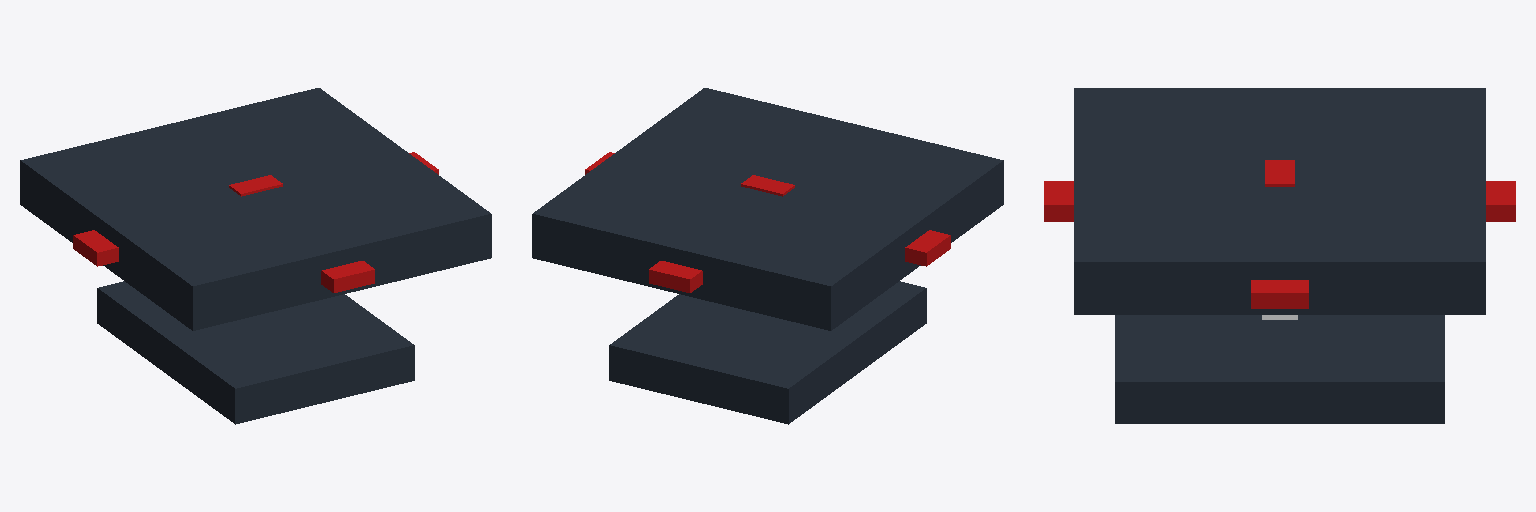
--- Facts derived from the render (not from the file) ---
Views: 3 orthographic renders of the robot side by side, from view 1: azimuth 30°, elevation 25°; view 2: azimuth 150°, elevation 25°; view 3: azimuth 270°, elevation 25°.
Model crazyflie with 15 links and 14 joints (4 revolute, 10 fixed), rooted at crazyflie_main_body, posed every joint at zero.
Visible links, largest first — view 1: mrdk_base_link, fldk_base_link, right_sensor, back_sensor, top_sensor; view 2: mrdk_base_link, fldk_base_link, left_sensor, back_sensor, top_sensor; view 3: mrdk_base_link, fldk_base_link, front_sensor, left_sensor, right_sensor, top_sensor.
Boxes of the visible links, left/top/right/bottom form: mrdk_base_link: left=20, top=88, right=491, bottom=330; fldk_base_link: left=97, top=281, right=414, bottom=424; right_sensor: left=321, top=261, right=374, bottom=292; back_sensor: left=73, top=230, right=118, bottom=266; top_sensor: left=229, top=175, right=282, bottom=196; mrdk_base_link: left=532, top=88, right=1003, bottom=330; fldk_base_link: left=609, top=281, right=926, bottom=424; left_sensor: left=649, top=261, right=702, bottom=292; back_sensor: left=905, top=230, right=950, bottom=266; top_sensor: left=741, top=175, right=794, bottom=196; mrdk_base_link: left=1074, top=88, right=1485, bottom=314; fldk_base_link: left=1115, top=315, right=1444, bottom=423; front_sensor: left=1251, top=280, right=1308, bottom=308; left_sensor: left=1486, top=181, right=1515, bottom=221; right_sensor: left=1044, top=181, right=1073, bottom=221; top_sensor: left=1265, top=160, right=1294, bottom=186.
Bounding box of the posed robot: 0.04 × 0.04 × 0.0218 m (x, y, z).
Geometry: only primitive shapes (box / cylinder / sphere) drawn; not drawn: 5 mesh visuals (reference in a form the renderer does not follow).

robot.urdf — crazyflie:
<?xml version="1.0"?>
<robot name="crazyflie" xmlns:xacro="http://www.ros.org/wiki/xacro">

  <!-- Material color used in Rviz -->
  <material name="black">
    <color rgba="0.0 0.0 0.0 1.0"/>
  </material>
  <material name="blue">
    <color rgba="0.203125 0.23828125 0.28515625 1.0"/>
  </material>
  <material name="green">
    <color rgba="0.0 0.8 0.0 1.0"/>
  </material>
  <material name="grey">
    <color rgba="0.2 0.2 0.2 1.0"/>
  </material>
  <material name="orange">
    <color rgba="1.0 0.423529411765 0.0392156862745 1.0"/>
  </material>
  <material name="brown">
    <color rgba="0.870588235294 0.811764705882 0.764705882353 1.0"/>
  </material>
  <material name="red">
    <color rgba="0.80078125 0.12890625 0.1328125 1.0"/>
  </material>
  <material name="white">
    <color rgba="1.0 1.0 1.0 1.0"/>
  </material>

  <!-- Material used by Gazebo -->
  <gazebo reference="imu_link">
    <material>Gazebo/White</material>
  </gazebo>

  <gazebo reference="fldk_base_link">
    <material>Gazebo/Blue</material>
  </gazebo>

  <gazebo reference="fldk_sensor_laser">
    <material>Gazebo/Red</material>
  </gazebo>

  <gazebo reference="fldk_sensor_camera">
    <material>Gazebo/Orange</material>
  </gazebo>

  <gazebo reference="mrdk_base_link">
    <material>Gazebo/Blue</material>
  </gazebo>

  <gazebo reference="top_sensor">
   <material>Gazebo/Red</material>
  </gazebo> 

  <gazebo reference="front_sensor">
   <material>Gazebo/Red</material>
  </gazebo>

  <gazebo reference="back_sensor">
   <material>Gazebo/Red</material>
  </gazebo> 

  <gazebo reference="left_sensor">
   <material>Gazebo/Red</material>
  </gazebo> 

  <gazebo reference="right_sensor">
   <material>Gazebo/Red</material>
  </gazebo> 

    <!--
    =========================================================================
                                  L I N K S
    =========================================================================
    -->

    <!--
    +++++++++++++++++++++++++++++++++++++++++++++++++++++++++++++++++++++++++
                        C R A Z Y F L I E  B O D Y
    +++++++++++++++++++++++++++++++++++++++++++++++++++++++++++++++++++++++++
    -->
    <link name="crazyflie_main_body">
      <origin xyz="0 0 0"/>
      <inertial>
        <mass value="0.027"/>
        <origin xyz="0 0 0.01745" rpy="0 0 0"/>
        <!--<inertia ixx="1.65717e-05" ixy="0" ixz="0" iyy="1.65717e-05" iyz="0" izz="2.92617e-05"/>-->
        <inertia ixx="16.823890e-06" ixy="0" ixz="0" iyy="16.655602e-06" iyz="0" izz="29.261652e-06"/>
      </inertial>

      <visual>
        <origin xyz="0 0 0" rpy="0 0 0"/>
        <geometry>
          <mesh filename="file://PATH_BASE"/>
        </geometry>
      </visual>
      <collision>
        <geometry>
          <box size="0.045 0.045 0.03"/>  <!-- "0.045 0.045 0.03" -->
        </geometry>
      </collision>
    </link>

    <!--
    +++++++++++++++++++++++++++++++++++++++++++++++++++++++++++++++++++++++++
                        I M U  S E N S O R  L I N K
    +++++++++++++++++++++++++++++++++++++++++++++++++++++++++++++++++++++++++
    -->

    <link name="imu_link">
        <origin xyz="0 0 0"/>
        <inertial>
            <origin xyz="0 0 0" rpy="0 0 0"/>
            <mass value="0.00001"/>
            <inertia ixx='8.252083333333335e-12' ixy='0' ixz='0' 
                     iyy='1.7627083333333335e-11' iyz='0' izz='8.252083333333335e-12'/>
        </inertial>
        <visual>
            <origin xyz="0 0 0" rpy="0 0 0"/>
            <geometry>
                <box size="0.0045 0.003 0.00095"/>
            </geometry>
            <material name="white"/>
        </visual>
        <collision>
            <origin xyz="0 0 0" rpy="0 0 0"/>
            <geometry>
                <box size="0.0045 0.003 0.00095"/>
            </geometry>
        </collision>
    </link>

    <!--
    +++++++++++++++++++++++++++++++++++++++++++++++++++++++++++++++++++++++++
                        P R O P E L L E R  M O T O R  1
    +++++++++++++++++++++++++++++++++++++++++++++++++++++++++++++++++++++++++
    -->

    <link name="crazyflie_prop_M1">
      <origin xyz="0 0 0"/> <!-- 0.032527 -0.032527 0.024 -->
      <inertial>
        <mass value="0.0005"/>
        <inertia ixx="1.20833e-07" ixy="0" ixz="0" iyy="1.07344e-06" iyz="0" izz="1.15677e-06"/>
      </inertial>
      <visual>
        <origin xyz="0 0 0" rpy="0 0 0"/>
        <geometry>
          <mesh scale="0.0225 0.0225 0.0225" filename="file://PATH_PROP_1"/>
        </geometry>
      </visual>
      <collision>
        <geometry>
          <cylinder radius="0.0225" length="0.005"/>
        </geometry>
      </collision>
    </link>

    <!--
    +++++++++++++++++++++++++++++++++++++++++++++++++++++++++++++++++++++++++
                        P R O P E L L E R  M O T O R  2
    +++++++++++++++++++++++++++++++++++++++++++++++++++++++++++++++++++++++++
    -->

    <link name="crazyflie_prop_M2">
      <origin xyz="0 0 0"/>
      <inertial>
        <mass value="0.0005"/>
        <inertia ixx="1.20833e-07" ixy="0" ixz="0" iyy="1.07344e-06" iyz="0" izz="1.15677e-06"/>
      </inertial>
      <visual>
        <origin xyz="0 0 0" rpy="0 0 0"/>
        <geometry>
          <mesh scale="0.0225 0.0225 0.0225" filename="file://PATH_PROP_2"/>
        </geometry>
      </visual>
      <collision>
        <geometry>
          <cylinder radius="0.0225" length="0.005"/>
        </geometry>
      </collision>
    </link>

    <!--
    +++++++++++++++++++++++++++++++++++++++++++++++++++++++++++++++++++++++++
                        P R O P E L L E R  M O T O R  3
    +++++++++++++++++++++++++++++++++++++++++++++++++++++++++++++++++++++++++
    -->

    <link name="crazyflie_prop_M3">
      <origin xyz="0 0 0"/>
      <inertial>
        <mass value="0.0005"/>
        <inertia ixx="1.20833e-07" ixy="0" ixz="0" iyy="1.07344e-06" iyz="0" izz="1.15677e-06"/>
      </inertial>
      <visual>
        <origin xyz="0 0 0" rpy="0 0 0"/>
        <geometry>
          <mesh scale="0.0225 0.0225 0.0225" filename="file://PATH_PROP_3"/>
        </geometry>
      </visual>
      <collision>
        <geometry>
          <cylinder radius="0.0225" length="0.005"/>
        </geometry>
      </collision>
    </link>

    <!--
    +++++++++++++++++++++++++++++++++++++++++++++++++++++++++++++++++++++++++
                        P R O P E L L E R  M O T O R  4
    +++++++++++++++++++++++++++++++++++++++++++++++++++++++++++++++++++++++++
    -->

    <link name="crazyflie_prop_M4">
      <origin xyz="0 0 0"/>
      <inertial>
        <mass value="0.0005"/>
        <inertia ixx="1.20833e-07" ixy="0" ixz="0" iyy="1.07344e-06" iyz="0" izz="1.15677e-06"/>
      </inertial>
      <visual>
        <origin xyz="0 0 0" rpy="0 0 0"/>
        <geometry>
          <mesh scale="0.0225 0.0225 0.0225" filename="file://PATH_PROP_4"/>
        </geometry>
      </visual>
      <collision>
        <geometry>
          <cylinder radius="0.0225" length="0.005"/>
        </geometry>
      </collision>
    </link>

    <!--
    =========================================================================
                                  J O I N T S
    =========================================================================
    -->
    <!--
    +++++++++++++++++++++++++++++++++++++++++++++++++++++++++++++++++++++++++
                I M U  S E N S O R  F I X E D  J O I N T
    +++++++++++++++++++++++++++++++++++++++++++++++++++++++++++++++++++++++++
    -->

    <joint name="imu_sensor_joint" type="fixed">
        <parent link="crazyflie_main_body" />
        <child link="imu_link" />
        <origin xyz="0 0 0.01745" rpy="0 0 0" />
    </joint>

    <!--
    +++++++++++++++++++++++++++++++++++++++++++++++++++++++++++++++++++++++++
                    R E V O L U T E  J O I N T  M O T O R  1
    +++++++++++++++++++++++++++++++++++++++++++++++++++++++++++++++++++++++++
    -->

    <joint name="crazyflie_M1_joint" type="revolute">
      <parent link="crazyflie_main_body"/>
      <child link="crazyflie_prop_M1"/>
      <origin xyz="0.0326695 -0.0326695 0.024" rpy="0 0 0" />
      <axis xyz="0 0 1"/>
      <limit lower="-1e+16" upper="1e+16" effort="1000" velocity="100"/>
    </joint>

    <!--
    +++++++++++++++++++++++++++++++++++++++++++++++++++++++++++++++++++++++++
                    R E V O L U T E  J O I N T  M O T O R  2
    +++++++++++++++++++++++++++++++++++++++++++++++++++++++++++++++++++++++++
    -->

    <joint name="crazyflie_M2_joint" type="revolute">
      <parent link="crazyflie_main_body"/>
      <child link="crazyflie_prop_M2"/>
      <origin xyz="-0.0326695 -0.0326695 0.024" rpy="0 0 0" />
      <axis xyz="0 0 1"/>
      <limit lower="-1e+16" upper="1e+16" effort="1000" velocity="100"/>
    </joint>

    <!--
    +++++++++++++++++++++++++++++++++++++++++++++++++++++++++++++++++++++++++
                    R E V O L U T E  J O I N T  M O T O R  3
    +++++++++++++++++++++++++++++++++++++++++++++++++++++++++++++++++++++++++
    -->

    <joint name="crazyflie_M3_joint" type="revolute">
      <parent link="crazyflie_main_body"/>
      <child link="crazyflie_prop_M3"/>
      <origin xyz="-0.0326695 0.0326695 0.024" rpy="0 0 0" />
      <axis xyz="0 0 1"/>
      <limit lower="-1e+16" upper="1e+16" effort="1000" velocity="100"/>
    </joint>

    <!--
    +++++++++++++++++++++++++++++++++++++++++++++++++++++++++++++++++++++++++
                    R E V O L U T E  J O I N T  M O T O R  4
    +++++++++++++++++++++++++++++++++++++++++++++++++++++++++++++++++++++++++
    -->

    <joint name="crazyflie_M4_joint" type="revolute">
      <parent link="crazyflie_main_body"/>
      <child link="crazyflie_prop_M4"/>
      <origin xyz="0.0326695 0.0326695 0.024" rpy="0 0 0" />
      <axis xyz="0 0 1"/>
      <limit lower="-1e+16" upper="1e+16" effort="1000" velocity="100"/>
    </joint>

    <!--
    =========================================================================
                              P L U G I N S
    =========================================================================
    -->
    <!--
    +++++++++++++++++++++++++++++++++++++++++++++++++++++++++++++++++++++++++
                        G A Z E B O  R O S  C O N T R O L
    +++++++++++++++++++++++++++++++++++++++++++++++++++++++++++++++++++++++++
    -->
    <gazebo>
        <plugin name="gazebo_ros_control" filename="libgazebo_ros_control.so">
          <robotNamespace>ROBOT_NAMESPACE</robotNamespace>
          <!-- Topic to publish nav_msgs/Odometry messages, defaults to `odom` -->
          <!-- <odometryTopic>odom</odometryTopic> -->
          <!-- Odometry frame, defaults to `odom` -->
          <!-- <odometryFrame>odom</odometryFrame> -->
          <!-- Odometry source, 0 for ENCODER, 1 for WORLD, defaults to WORLD -->
          <!-- <odometrySource>1</odometrySource> -->
        </plugin>
    </gazebo>

    <!--
    +++++++++++++++++++++++++++++++++++++++++++++++++++++++++++++++++++++++++
                                O D O M E T R Y
    +++++++++++++++++++++++++++++++++++++++++++++++++++++++++++++++++++++++++
    -->
    <gazebo>
        <plugin name="p3d_base_controller" filename="libgazebo_ros_p3d.so">
            <alwaysOn>true</alwaysOn>
            <updateRate>500.0</updateRate>
            <bodyName>crazyflie_main_body</bodyName> <!--crazyflie_main_body-->
            <topicName>ODOMETRY_TOPIC</topicName>
            <gaussianNoise>0.0</gaussianNoise>
            <!-- new stuff -->
            <!-- <odometryTopic>odom</odometryTopic> -->
            <!-- <odometryFrame>odom</odometryFrame> -->
            <frameName>world</frameName> 
            <xyzOffsets>0 0 0</xyzOffsets>
            <rpyOffsets>0 0 0</rpyOffsets>
        </plugin>
    </gazebo>

    <gazebo>
        <plugin name="p3d_base_controller" filename="libgazebo_ros_p3d.so">
            <alwaysOn>true</alwaysOn>
            <updateRate>500.0</updateRate>
            <bodyName>crazyflie_main_body</bodyName> <!--crazyflie_main_body-->
            <topicName>odom_relative</topicName>
            <gaussianNoise>0.0</gaussianNoise>

            <!-- new stuff -->
            <!-- <odometryTopic>odom</odometryTopic> -->
            <!-- <odometryFrame>odom</odometryFrame> -->

            <!-- change the framName to world -->
            <!-- <frameName>world</frameName>  -->
            <frameName>crazyflie_main_body</frameName>

            <xyzOffsets>0 0 0</xyzOffsets>
            <rpyOffsets>0 0 0</rpyOffsets>
        </plugin>
    </gazebo>

    <!--
    +++++++++++++++++++++++++++++++++++++++++++++++++++++++++++++++++++++++++
                                I M U  S E N S O R  P L U G I N
    +++++++++++++++++++++++++++++++++++++++++++++++++++++++++++++++++++++++++
    -->
    <gazebo reference="imu_link">
      <gravity>true</gravity>
      <sensor name="imu_sensor" type="imu">
        <always_on>true</always_on>
        <update_rate>100</update_rate> 
        <!-- this is the topic publish rate -->
        <visualize>true</visualize>
        <topic>__default_topic__</topic>
        <plugin filename="libgazebo_ros_imu_sensor.so" name="imu_plugin">
          <topicName>imu</topicName>
          <bodyName>/cf1/imu</bodyName>
          <gaussianNoise>IMU_GAUSSIAN_NOISE_VALUE</gaussianNoise>
          <updateRateHZ>IMU_UPDATE_RATE</updateRateHZ>
          <xyzOffset>0 0 0</xyzOffset>
          <rpyOffset>0 0 0</rpyOffset>
          <frameName>imu_link</frameName>
          <initialOrientationAsReference>false</initialOrientationAsReference>
        </plugin>
        <pose>0 0 0 0 0 0</pose>
      </sensor>
    </gazebo>
    <!--
    =========================================================================
                              A C T U A T O R S
    =========================================================================
    -->
    <!--
    +++++++++++++++++++++++++++++++++++++++++++++++++++++++++++++++++++++++++
                        A C T U A T O R  M O T O R  1
    +++++++++++++++++++++++++++++++++++++++++++++++++++++++++++++++++++++++++
    -->

    <transmission name="transmission_M1">
        <type>transmission_interface/SimpleTransmission</type>
        <joint name="crazyflie_M1_joint">
          <hardwareInterface>hardware_interface/VelocityJointInterface</hardwareInterface>
        </joint>
        <actuator name="M1">
          <mechanicalReduction>1</mechanicalReduction>
          <hardwareInterface>hardware_interface/VelocityJointInterface</hardwareInterface>
        </actuator>

    </transmission>

    <!--
    +++++++++++++++++++++++++++++++++++++++++++++++++++++++++++++++++++++++++
                        A C T U A T O R  M O T O R  2
    +++++++++++++++++++++++++++++++++++++++++++++++++++++++++++++++++++++++++
    -->

    <transmission name="transmission_M2">
        <type>transmission_interface/SimpleTransmission</type>
        <joint name="crazyflie_M2_joint">
          <hardwareInterface>hardware_interface/VelocityJointInterface</hardwareInterface>
        </joint>
        <actuator name="M2">
          <mechanicalReduction>1</mechanicalReduction>
          <hardwareInterface>hardware_interface/VelocityJointInterface</hardwareInterface>
        </actuator>

    </transmission>

    <!--
    +++++++++++++++++++++++++++++++++++++++++++++++++++++++++++++++++++++++++
                    A C T U A T O R  M O T O R  3
    +++++++++++++++++++++++++++++++++++++++++++++++++++++++++++++++++++++++++
    -->

    <transmission name="transmission_M3">
        <type>transmission_interface/SimpleTransmission</type>
        <joint name="crazyflie_M3_joint">
          <hardwareInterface>hardware_interface/VelocityJointInterface</hardwareInterface>
        </joint>
        <actuator name="M3">
          <mechanicalReduction>1</mechanicalReduction>
          <hardwareInterface>hardware_interface/VelocityJointInterface</hardwareInterface>
        </actuator>

    </transmission>

    <!--
    +++++++++++++++++++++++++++++++++++++++++++++++++++++++++++++++++++++++++
                    A C T U A T O R  M O T O R  4
    +++++++++++++++++++++++++++++++++++++++++++++++++++++++++++++++++++++++++
    -->

    <transmission name="transmission_M4">
        <type>transmission_interface/SimpleTransmission</type>
        <joint name="crazyflie_M4_joint">
          <hardwareInterface>hardware_interface/VelocityJointInterface</hardwareInterface>
        </joint>
        <actuator name="M4">
          <mechanicalReduction>1</mechanicalReduction>
          <hardwareInterface>hardware_interface/VelocityJointInterface</hardwareInterface>
        </actuator>

    </transmission>

    <!--
    =========================================================================
                    F O R C E S & T O R Q U E S  P L U G I N S
    =========================================================================
    -->
    <!--
    +++++++++++++++++++++++++++++++++++++++++++++++++++++++++++++++++++++++++
                    F O R C E / T O R Q U E  M O T O R  1
    +++++++++++++++++++++++++++++++++++++++++++++++++++++++++++++++++++++++++
    -->

    <gazebo>
        <plugin name="gazebo_ros_force" filename="libgazebo_ros_force.so">
              <alwaysOn>true</alwaysOn>
              <update>FORCE_STATE_FREQ_INT_1</update>
              <updateRate>FORCE_STATE_FREQ_FLOAT_1</updateRate>
              <bodyName>crazyflie_prop_M1</bodyName>
              <topicName>FORCE_STATE_TOPIC_M1</topicName>
        </plugin>
    </gazebo>

    <!--
    +++++++++++++++++++++++++++++++++++++++++++++++++++++++++++++++++++++++++
                    F O R C E / T O R Q U E  M O T O R  2
    +++++++++++++++++++++++++++++++++++++++++++++++++++++++++++++++++++++++++
    -->

    <gazebo>
        <plugin name="gazebo_ros_force" filename="libgazebo_ros_force.so">
              <alwaysOn>true</alwaysOn>
               <update>FORCE_STATE_FREQ_INT_2</update>
              <updateRate>FORCE_STATE_FREQ_FLOAT_2</updateRate>
              <bodyName>crazyflie_prop_M2</bodyName>
              <topicName>FORCE_STATE_TOPIC_M2</topicName>
        </plugin>
    </gazebo>

    <!--
    +++++++++++++++++++++++++++++++++++++++++++++++++++++++++++++++++++++++++
                    F O R C E / T O R Q U E  M O T O R  3
    +++++++++++++++++++++++++++++++++++++++++++++++++++++++++++++++++++++++++
    -->

    <gazebo>
        <plugin name="gazebo_ros_force" filename="libgazebo_ros_force.so">
              <alwaysOn>true</alwaysOn>
              <update>FORCE_STATE_FREQ_INT_3</update>
              <updateRate>FORCE_STATE_FREQ_FLOAT_3</updateRate>
              <bodyName>crazyflie_prop_M3</bodyName>
              <topicName>FORCE_STATE_TOPIC_M3</topicName>
        </plugin>
    </gazebo>

    <!--
    +++++++++++++++++++++++++++++++++++++++++++++++++++++++++++++++++++++++++
                    F O R C E / T O R Q U E  M O T O R  4
    +++++++++++++++++++++++++++++++++++++++++++++++++++++++++++++++++++++++++
    -->

    <gazebo>
        <plugin name="gazebo_ros_force" filename="libgazebo_ros_force.so">
              <alwaysOn>true</alwaysOn>
              <update>FORCE_STATE_FREQ_INT_4</update>
              <updateRate>FORCE_STATE_FREQ_FLOAT_4</updateRate>
              <bodyName>crazyflie_prop_M4</bodyName>
              <topicName>FORCE_STATE_TOPIC_M4</topicName>
        </plugin>
    </gazebo>


    <!--
    =========================================================================
                               F L O W D E C K
    =========================================================================
    -->


    <!--
    +++++++++++++++++++++++++++++++++++++++++++++++++++++++++++++++++++++++++
                 F L O W D E C K  B A S E  L I N K 
    +++++++++++++++++++++++++++++++++++++++++++++++++++++++++++++++++++++++++
    -->
 
    <link name="fldk_base_link">
        <inertial>
            <origin rpy="0 0 0" xyz="0 0 0"/>
            <mass value="0.0016"/>
            <inertia ixx="1.0666666666666667e-07" ixy="0" ixz="0" 
            iyy="6.093333333333334e-08" iyz="0" izz="6.093333333333334e-08"/>
        </inertial>
        <visual>
            <origin rpy="0 0 0" xyz="0 0 0"/>
            <geometry>
                <box size="0.021 0.028 0.004"/>
            </geometry>
            <material name="blue"/>
        </visual>
        <collision>
            <origin rpy="0 0 0" xyz="0 0 0"/>
            <geometry>
                <box size="0.021 0.028 0.004"/>
            </geometry>
        </collision>
    </link>

    <!--
    +++++++++++++++++++++++++++++++++++++++++++++++++++++++++++++++++++++++++
            F L O W D E C K  B A S E L I N K  F I X E D  J O I N T
    +++++++++++++++++++++++++++++++++++++++++++++++++++++++++++++++++++++++++
    -->
    <joint name="joint_fldk_base_link" type="fixed">
        <origin xyz="0 0 0.013" rpy="0 0 0" />
        <parent link="crazyflie_main_body"/>
        <child link="fldk_base_link"/>
    </joint>


    <!--
    +++++++++++++++++++++++++++++++++++++++++++++++++++++++++++++++++++++++++
                 F L O W D E C K  L A S E R  S E N S O R  L I N K 
    +++++++++++++++++++++++++++++++++++++++++++++++++++++++++++++++++++++++++
    -->
    <link name="fldk_sensor_laser">
        <inertial>
            <origin rpy="0 0 0" xyz="0 0 0"/>
            <mass value="0.00001"/>
            <inertia ixx='2.2036333333333332e-11' ixy='0' ixz='0' 
            iyy='7.236333333333333e-12' iyz='0' izz='2.2036333333333332e-11' />
            <!-- xacro:cylinder_inertia mass="0.00001" r="0.005" l="0.005"/ -->
        </inertial>
        <visual>
            <origin rpy="0 0 0" xyz="0 0 0"/>
            <geometry>
                <box size="0.0025 0.0049 0.00156"/>
            </geometry>
            <material name="red"/>
        </visual>
        <collision>
            <origin rpy="0 0 0" xyz="0 0 0"/>
            <geometry>
                <box size="0.0025 0.0049 0.00156"/>
            </geometry>
        </collision>
    </link>

    <!--
    +++++++++++++++++++++++++++++++++++++++++++++++++++++++++++++++++++++++++
            F L O W D E C K  L A S E R  S E N S O R  F I X E D  J O I N T
    +++++++++++++++++++++++++++++++++++++++++++++++++++++++++++++++++++++++++
    -->

    <joint name="joint_fldk_sensor_laser" type="fixed">
        <origin xyz="0.007 0 -0.002" rpy="0 0 0" />
        <parent link="fldk_base_link"/>
        <child link="fldk_sensor_laser"/>
    </joint>

    <!--
    +++++++++++++++++++++++++++++++++++++++++++++++++++++++++++++++++++++++++
                 F L O W D E C K  L A S E R  S E N S O R  P L U G I N
    +++++++++++++++++++++++++++++++++++++++++++++++++++++++++++++++++++++++++
    -->
    <gazebo reference="fldk_sensor_laser">
    <sensor type="ray" name="fldk_VL53L1x_ToF">
      <pose>0 0 0 0 0 0</pose>
      <visualize>false</visualize>
      <update_rate>10</update_rate>
      <!-- this is the topic publish rate  -->
      <ray>
        <scan>
          <vertical>
            <samples>32</samples>
            <resolution>1</resolution>
            <min_angle>-1.3345</min_angle> <!-- 27 degree -->
            <max_angle>-1.8055</max_angle>
          </vertical>
          <!-- horizontal>
            <samples>720</samples>
            <resolution>1</resolution>
            <min_angle>-1.570796</min_angle>
            <max_angle>1.570796</max_angle>
          </horizontal -->
        </scan>
        <range>
          <min>0.04</min>
          <max>4.0</max>
          <resolution>0.01</resolution>
        </range>
        <noise>
          <type>gaussian</type>
          <mean>0.0</mean>
          <stddev>0.001</stddev>
        </noise>
      </ray>
      <plugin name="gazebo_ros_head_hokuyo_controller" filename="libgazebo_ros_laser.so">
        <topicName>/cf1/laser/scan</topicName>
        <frameName>fldk_sensor_laser</frameName>
      </plugin>
    </sensor>
  </gazebo>


    <!--
    +++++++++++++++++++++++++++++++++++++++++++++++++++++++++++++++++++++++++
          F L O W D E C K  O P T I C A L  F L O W  S E N S O R  L I N K 
    +++++++++++++++++++++++++++++++++++++++++++++++++++++++++++++++++++++++++
    -->
    <link name="fldk_sensor_camera">
        <inertial>
            <origin rpy="0 0 0" xyz="0 0 0"/>
            <mass value="0.00001"/>
            <inertia ixx='3.333354166666667e-05' ixy='0' ixz='0' 
            iyy='3.333354166666667e-05' iyz='0' izz='3.333354166666667e-05' />
        </inertial>
        <visual>
            <origin rpy="0 0 0" xyz="0 0 0"/>
            <geometry>
                <box size="0.005 0.005 0.002"/>
            </geometry>
            <material name="orange"/>
        </visual>
        <collision>
            <origin rpy="0 0 0" xyz="0 0 0"/>
            <geometry>
                <box size="0.005 0.005 0.002"/>
            </geometry>
        </collision>
    </link>

    <!--
    +++++++++++++++++++++++++++++++++++++++++++++++++++++++++++++++++++++++++
      F L O W D E C K  O P T I C A L  F L O W  S E N S O R  F I X E D  J O I N T
    +++++++++++++++++++++++++++++++++++++++++++++++++++++++++++++++++++++++++
    -->

    <joint name="joint_fldk_sensor_camera" type="fixed">
        <origin xyz="0 0 -0.0025" rpy="0 1.5707963 0" />
        <parent link="fldk_base_link"/>
        <child link="fldk_sensor_camera"/>
    </joint>

    <!--
    +++++++++++++++++++++++++++++++++++++++++++++++++++++++++++++++++++++++++
        F L O W D E C K  O P T I C A L  F L O W  S E N S O R  P L U G I N
    +++++++++++++++++++++++++++++++++++++++++++++++++++++++++++++++++++++++++
    -->
  <gazebo reference="fldk_sensor_camera">
    <sensor type="camera" name="camera">
      <update_rate>120</update_rate>
      <!-- it's the maximum frame per second the camera can achieve, could be lower than that in simulation -->
      <visualize>true</visualize>
      <camera name="PMW3901">
        <horizontal_fov>0.73266667</horizontal_fov>
        <!-- field of view is 42 degrees -->
        <image>
          <width>350</width>
          <height>350</height>
          <format>R8G8B8</format>
        </image>
        <clip>
          <near>0.08</near>
          <far>300</far>
        </clip>
        <noise>
          <type>gaussian</type>
          <!-- Noise is sampled independently per pixel on each frame.
               That pixel's noise value is added to each of its color
               channels, which at that point lie in the range [0,1]. -->
          <mean>0.0</mean>
          <stddev>0.007</stddev>
        </noise>
      </camera>
      <plugin name="camera_controller" filename="libgazebo_ros_camera.so">
        <alwaysOn>true</alwaysOn>
        <updateRate>0.0</updateRate>
        <cameraName>camera1</cameraName>
        <imageTopicName>image_raw</imageTopicName>
        <cameraInfoTopicName>camera_info</cameraInfoTopicName>
        <frameName>fldk_sensor_camera</frameName>
        <hackBaseline>0.07</hackBaseline>
        <distortionK1>0.0</distortionK1>
        <distortionK2>0.0</distortionK2>
        <distortionK3>0.0</distortionK3>
        <distortionT1>0.0</distortionT1>
        <distortionT2>0.0</distortionT2>
      </plugin>
    </sensor>
  </gazebo>


    <!--
    =========================================================================
                    M U L T I - R A N G E R   D E C K
    =========================================================================
    -->


    <!--
    +++++++++++++++++++++++++++++++++++++++++++++++++++++++++++++++++++++++++
              M U L T I - R A N G E R   D E C K   B A S E  L I N K 
    +++++++++++++++++++++++++++++++++++++++++++++++++++++++++++++++++++++++++
    -->
 
    <link name="mrdk_base_link">
        <inertial>
            <origin rpy="0 0 0" xyz="0 0 0"/>
            <mass value="0.0023"/>
            <inertia ixx='2.3958333333333335e-07' ixy='0' ixz='0' 
            iyy='2.3958333333333335e-07' iyz='0' izz='2.3958333333333335e-07'/>
        </inertial>
        <visual>
            <origin rpy="0 0 0" xyz="0 0 0"/>
            <geometry>
                <box size="0.035 0.035 0.005"/>
            </geometry>
            <material name="blue"/>
        </visual>
        <collision>
            <origin rpy="0 0 0" xyz="0 0 0"/>
            <geometry>
                <box size="0.035 0.035 0.005"/>
            </geometry>
        </collision>
    </link>

    <!--
    +++++++++++++++++++++++++++++++++++++++++++++++++++++++++++++++++++++++++
      M U L T I - R A N G E R   D E C K  B A S E L I N K  F I X E D  J O I N T
    +++++++++++++++++++++++++++++++++++++++++++++++++++++++++++++++++++++++++
    -->
    <joint name="joint_mrdk_base_link" type="fixed">
        <origin xyz="0 0 0.027" rpy="0 0 0" />
        <parent link="crazyflie_main_body"/>
        <child link="mrdk_base_link"/>
    </joint>


    <!--
    +++++++++++++++++++++++++++++++++++++++++++++++++++++++++++++++++++++++++
                       T O P  S E N S O R  L I N K 
    +++++++++++++++++++++++++++++++++++++++++++++++++++++++++++++++++++++++++
    -->
    <link name="top_sensor">
        <inertial>
            <origin rpy="0 0 0" xyz="0 0 0"/>
            <mass value="0.00001"/>
            <inertia ixx='7.236333333333333e-12' ixy='0' ixz='0' 
            iyy='2.2036333333333332e-11' iyz='0' izz='7.236333333333333e-12' />
        </inertial>
        <visual>
            <origin rpy="0 0 0" xyz="0 0 0"/>
            <geometry>
                <box size="0.0049 0.0025 0.00156"/>
            </geometry>
            <material name="red"/>
        </visual>
        <collision>
            <origin rpy="0 0 0" xyz="0 0 0"/>
            <geometry>
                <box size="0.0049 0.0025 0.00156"/>
            </geometry>
        </collision>
    </link>

    <!--
    +++++++++++++++++++++++++++++++++++++++++++++++++++++++++++++++++++++++++
                  T O P  S E N S O R  F I X E D  J O I N T
    +++++++++++++++++++++++++++++++++++++++++++++++++++++++++++++++++++++++++
    -->

    <joint name="joint_top_sensor" type="fixed">
        <origin xyz="0 0 0.002" rpy="0 0 0" />
        <parent link="mrdk_base_link"/>
        <child link="top_sensor"/>
    </joint>

    <!--
    +++++++++++++++++++++++++++++++++++++++++++++++++++++++++++++++++++++++++
                     T O P  S E N S O R  P L U G I N
    +++++++++++++++++++++++++++++++++++++++++++++++++++++++++++++++++++++++++
    -->
    <gazebo reference="top_sensor">
    <sensor type="ray" name="top_sensor">
      <pose>0 0 0 0 0 0</pose>
      <visualize>false</visualize>
      <update_rate>10</update_rate>
      <ray>
        <scan>
          <vertical>
            <samples>32</samples>
            <resolution>1</resolution>
            <min_angle>1.3345</min_angle> <!-- 27 degree -->
            <max_angle>1.8055</max_angle>
          </vertical>
          <!-- horizontal>
            <samples>720</samples>
            <resolution>1</resolution>
            <min_angle>-1.570796</min_angle>
            <max_angle>1.570796</max_angle>
          </horizontal -->
        </scan>
        <range>
          <min>0.04</min>
          <max>4.0</max>
          <resolution>0.01</resolution>
        </range>
        <noise>
          <type>gaussian</type>
          <mean>0.0</mean>
          <stddev>0.001</stddev>
        </noise>
      </ray>
      <plugin name="gazebo_ros_head_hokuyo_controller" filename="libgazebo_ros_laser.so">
        <topicName>/cf1/top_sensor/scan</topicName>
        <frameName>top_sensor</frameName>
      </plugin>
    </sensor>
  </gazebo>

    <!--
    +++++++++++++++++++++++++++++++++++++++++++++++++++++++++++++++++++++++++
                       F R O N T  S E N S O R  L I N K 
    +++++++++++++++++++++++++++++++++++++++++++++++++++++++++++++++++++++++++
    -->
    <link name="front_sensor">
        <inertial>
            <origin rpy="0 0 0" xyz="0 0 0"/>
            <mass value="0.00001"/>
            <inertia ixx='2.2036333333333332e-11' ixy='0' ixz='0' 
            iyy='7.236333333333333e-12' iyz='0' izz='2.2036333333333332e-11' />
        </inertial>
        <visual>
            <origin rpy="0 0 0" xyz="0 0 0"/>
            <geometry>
                <box size="0.0025 0.0049 0.00156"/>
            </geometry>
            <material name="red"/>
        </visual>
        <collision>
            <origin rpy="0 0 0" xyz="0 0 0"/>
            <geometry>
                <box size="0.0025 0.0049 0.00156"/>
            </geometry>
        </collision>
    </link>

    <!--
    +++++++++++++++++++++++++++++++++++++++++++++++++++++++++++++++++++++++++
                  F R O N T  S E N S O R  F I X E D  J O I N T
    +++++++++++++++++++++++++++++++++++++++++++++++++++++++++++++++++++++++++
    -->

    <joint name="joint_front_sensor" type="fixed">
        <origin xyz="0.01875 0 0" rpy="0 0 0" />
        <parent link="mrdk_base_link"/>
        <child link="front_sensor"/>
    </joint>

    <!--
    +++++++++++++++++++++++++++++++++++++++++++++++++++++++++++++++++++++++++
                     F R O N T  S E N S O R  P L U G I N
    +++++++++++++++++++++++++++++++++++++++++++++++++++++++++++++++++++++++++
    -->
    <gazebo reference="front_sensor">
    <sensor type="ray" name="front_sensor">
      <pose>0 0 0 0 0 0</pose>
      <visualize>false</visualize>
      <update_rate>10</update_rate>
      <ray>
        <scan>
          <horizontal>
            <samples>32</samples>
            <resolution>1</resolution>
            <min_angle>-0.2355</min_angle>
            <max_angle>0.2355</max_angle>
          </horizontal>
        </scan>
        <range>
          <min>0.04</min>
          <max>4.0</max>
          <resolution>0.01</resolution>
        </range>
        <noise>
          <type>gaussian</type>
          <mean>0.0</mean>
          <stddev>0.001</stddev>
        </noise>
      </ray>
      <plugin name="gazebo_ros_head_hokuyo_controller" filename="libgazebo_ros_laser.so">
        <topicName>/cf1/front_sensor/scan</topicName>
        <frameName>front_sensor</frameName>
      </plugin>
    </sensor>
  </gazebo>

    <!--
    +++++++++++++++++++++++++++++++++++++++++++++++++++++++++++++++++++++++++
                       B A C K  S E N S O R  L I N K 
    +++++++++++++++++++++++++++++++++++++++++++++++++++++++++++++++++++++++++
    -->
    <link name="back_sensor">
        <inertial>
            <origin rpy="0 0 0" xyz="0 0 0"/>
            <mass value="0.00001"/>
            <inertia ixx='2.2036333333333332e-11' ixy='0' ixz='0' 
            iyy='7.236333333333333e-12' iyz='0' izz='2.2036333333333332e-11' />
        </inertial>
        <visual>
            <origin rpy="0 0 0" xyz="0 0 0"/>
            <geometry>
                <box size="0.0025 0.0049 0.00156"/>
            </geometry>
            <material name="red"/>
        </visual>
        <collision>
            <origin rpy="0 0 0" xyz="0 0 0"/>
            <geometry>
                <box size="0.0025 0.0049 0.00156"/>
            </geometry>
        </collision>
    </link>

    <!--
    +++++++++++++++++++++++++++++++++++++++++++++++++++++++++++++++++++++++++
                  B A C K  S E N S O R  F I X E D  J O I N T
    +++++++++++++++++++++++++++++++++++++++++++++++++++++++++++++++++++++++++
    -->

    <joint name="joint_back_sensor" type="fixed">
        <origin xyz="-0.01875 0 0" rpy="0 0 0" />
        <parent link="mrdk_base_link"/>
        <child link="back_sensor"/>
    </joint>

    <!--
    +++++++++++++++++++++++++++++++++++++++++++++++++++++++++++++++++++++++++
                     B A C K  S E N S O R  P L U G I N
    +++++++++++++++++++++++++++++++++++++++++++++++++++++++++++++++++++++++++
    -->
    <gazebo reference="back_sensor">
    <sensor type="ray" name="back_sensor">
      <pose>0 0 0 0 0 0</pose>
      <visualize>false</visualize>
      <update_rate>10</update_rate>
      <ray>
        <scan>
          <horizontal>
            <samples>32</samples>
            <resolution>1</resolution>
            <min_angle>-2.9045</min_angle>
            <max_angle>-3.3755</max_angle>
          </horizontal>
        </scan>
        <range>
          <min>0.04</min>
          <max>4.0</max>
          <resolution>0.01</resolution>
        </range>
        <noise>
          <type>gaussian</type>
          <mean>0.0</mean>
          <stddev>0.001</stddev>
        </noise>
      </ray>
      <plugin name="gazebo_ros_head_hokuyo_controller" filename="libgazebo_ros_laser.so">
        <topicName>/cf1/back_sensor/scan</topicName>
        <frameName>back_sensor</frameName>
      </plugin>
    </sensor>
  </gazebo>

    <!--
    +++++++++++++++++++++++++++++++++++++++++++++++++++++++++++++++++++++++++
                       L E F T  S E N S O R  L I N K 
    +++++++++++++++++++++++++++++++++++++++++++++++++++++++++++++++++++++++++
    -->
    <link name="left_sensor">
        <inertial>
            <origin rpy="0 0 0" xyz="0 0 0"/>
            <mass value="0.00001"/>
            <inertia ixx='7.236333333333333e-12' ixy='0' ixz='0' 
            iyy='2.2036333333333332e-11' iyz='0' izz='7.236333333333333e-12' />
        </inertial>
        <visual>
            <origin rpy="0 0 0" xyz="0 0 0"/>
            <geometry>
                <box size="0.0049 0.0025 0.00156"/>
            </geometry>
            <material name="red"/>
        </visual>
        <collision>
            <origin rpy="0 0 0" xyz="0 0 0"/>
            <geometry>
                <box size="0.0049 0.0025 0.00156"/>
            </geometry>
        </collision>
    </link>

    <!--
    +++++++++++++++++++++++++++++++++++++++++++++++++++++++++++++++++++++++++
                  L E F T  S E N S O R  F I X E D  J O I N T
    +++++++++++++++++++++++++++++++++++++++++++++++++++++++++++++++++++++++++
    -->

    <joint name="joint_left_sensor" type="fixed">
        <origin xyz="0 0.01875 0" rpy="0 0 0" />
        <parent link="mrdk_base_link"/>
        <child link="left_sensor"/>
    </joint>

    <!--
    +++++++++++++++++++++++++++++++++++++++++++++++++++++++++++++++++++++++++
                     L E F T  S E N S O R  P L U G I N
    +++++++++++++++++++++++++++++++++++++++++++++++++++++++++++++++++++++++++
    -->
    <gazebo reference="left_sensor">
    <sensor type="ray" name="left_sensor">
      <pose>0 0 0 0 0 0</pose>
      <visualize>false</visualize>
      <update_rate>10</update_rate>
      <ray>
        <scan>
          <horizontal>
            <samples>32</samples>
            <resolution>1</resolution>
            <min_angle>1.3345</min_angle>
            <max_angle>1.8055</max_angle>
          </horizontal>
        </scan>
        <range>
          <min>0.04</min>
          <max>4.0</max>
          <resolution>0.01</resolution>
        </range>
        <noise>
          <type>gaussian</type>
          <mean>0.0</mean>
          <stddev>0.001</stddev>
        </noise>
      </ray>
      <plugin name="gazebo_ros_head_hokuyo_controller" filename="libgazebo_ros_laser.so">
        <topicName>/cf1/left_sensor/scan</topicName>
        <frameName>left_sensor</frameName>
      </plugin>
    </sensor>
  </gazebo>

    <!--
    +++++++++++++++++++++++++++++++++++++++++++++++++++++++++++++++++++++++++
                       R I G H T  S E N S O R  L I N K 
    +++++++++++++++++++++++++++++++++++++++++++++++++++++++++++++++++++++++++
    -->
    <link name="right_sensor">
        <inertial>
            <origin rpy="0 0 0" xyz="0 0 0"/>
            <mass value="0.00001"/>
            <inertia ixx='7.236333333333333e-12' ixy='0' ixz='0' 
            iyy='2.2036333333333332e-11' iyz='0' izz='7.236333333333333e-12' />
        </inertial>
        <visual>
            <origin rpy="0 0 0" xyz="0 0 0"/>
            <geometry>
                <box size="0.0049 0.0025 0.00156"/>
            </geometry>
            <material name="red"/>
        </visual>
        <collision>
            <origin rpy="0 0 0" xyz="0 0 0"/>
            <geometry>
                <box size="0.0049 0.0025 0.00156"/>
            </geometry>
        </collision>
    </link>

    <!--
    +++++++++++++++++++++++++++++++++++++++++++++++++++++++++++++++++++++++++
                  R I G H T  S E N S O R  F I X E D  J O I N T
    +++++++++++++++++++++++++++++++++++++++++++++++++++++++++++++++++++++++++
    -->

    <joint name="joint_right_sensor" type="fixed">
        <origin xyz="0 -0.01875 0" rpy="0 0 0" />
        <parent link="mrdk_base_link"/>
        <child link="right_sensor"/>
    </joint>

    <!--
    +++++++++++++++++++++++++++++++++++++++++++++++++++++++++++++++++++++++++
                     R I G H T  S E N S O R  P L U G I N
    +++++++++++++++++++++++++++++++++++++++++++++++++++++++++++++++++++++++++
    -->
    <gazebo reference="right_sensor">
    <sensor type="ray" name="right_sensor">
      <pose>0 0 0 0 0 0</pose>
      <visualize>false</visualize>
      <update_rate>10</update_rate>
      <ray>
        <scan>
          <horizontal>
            <samples>32</samples>
            <resolution>1</resolution>
            <min_angle>-1.3345</min_angle>
            <max_angle>-1.8055</max_angle>
          </horizontal>
        </scan>
        <range>
          <min>0.04</min>
          <max>4.0</max>
          <resolution>0.01</resolution>
        </range>
        <noise>
          <type>gaussian</type>
          <mean>0.0</mean>
          <stddev>0.001</stddev>
        </noise>
      </ray>
      <plugin name="gazebo_ros_head_hokuyo_controller" filename="libgazebo_ros_laser.so">
        <topicName>/cf1/right_sensor/scan</topicName>
        <frameName>right_sensor</frameName>
      </plugin>
    </sensor>
  </gazebo>

</robot>
